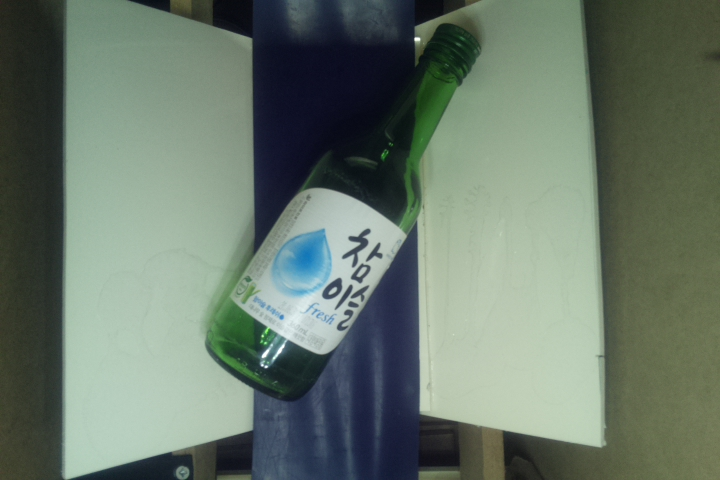soju: (203, 21, 480, 403)
